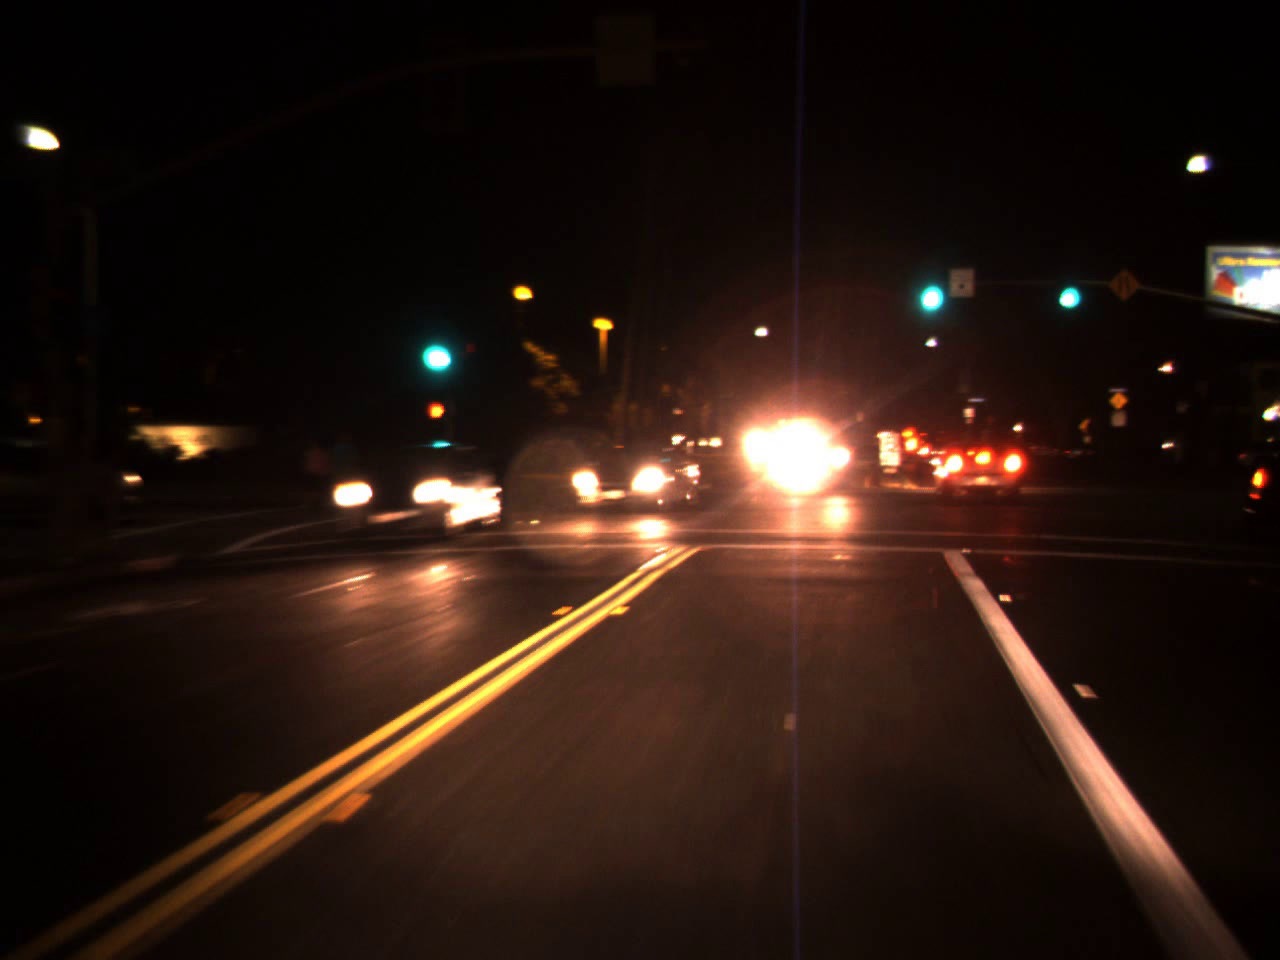go: (411, 310, 457, 382), (910, 252, 949, 321), (1053, 261, 1083, 315)
